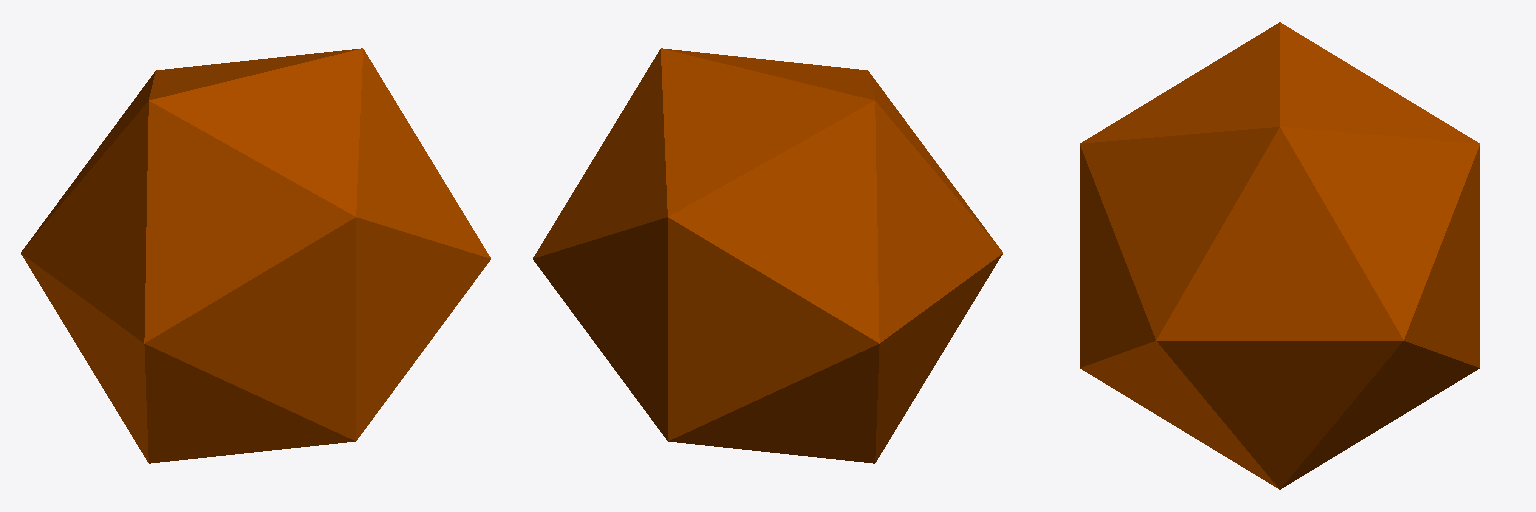
The model's file is Fireball.obj.
3 renders of one model, left to right at view 1: azimuth 30°, elevation 25°; view 2: azimuth 150°, elevation 25°; view 3: azimuth 270°, elevation 25°, orthographic.
Visible parts, largest first — view 1: Fireball; view 2: Fireball; view 3: Fireball.
Part boxes in pixels (bbox=[...]): Fireball: bbox=[21, 48, 490, 463]; Fireball: bbox=[533, 48, 1002, 463]; Fireball: bbox=[1080, 22, 1479, 489].
Bounding box in the file's own units: 0.2552 × 0.2552 × 0.2552.